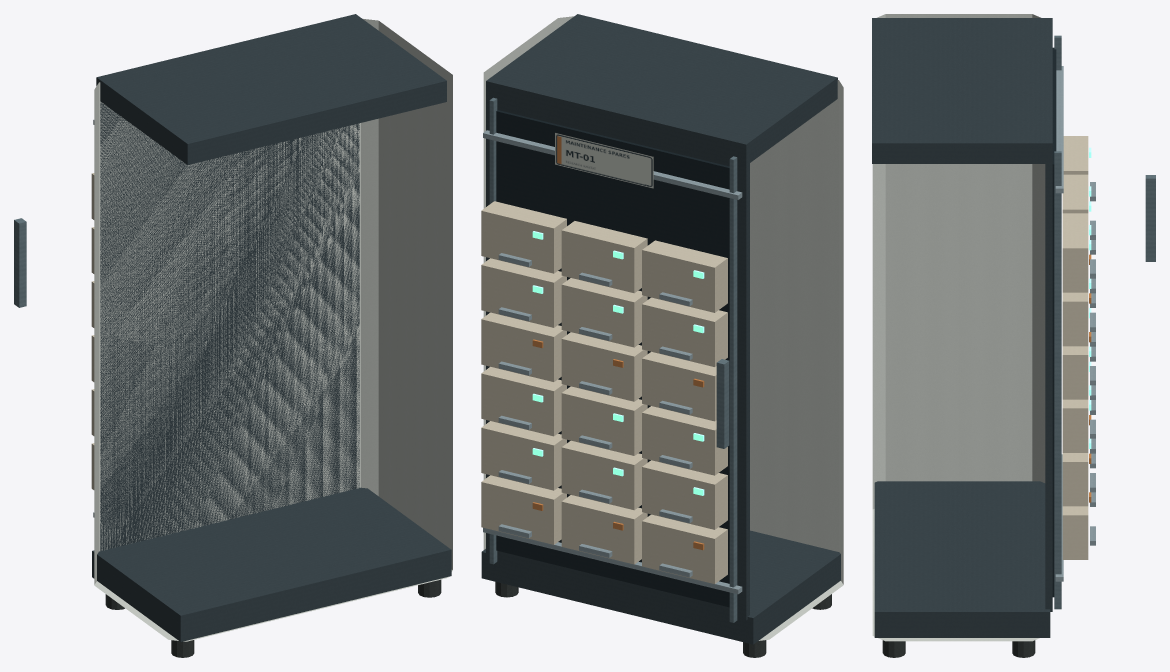
File: spares_cabinet.glb
3 views of the same model, side by side, from view 1: azimuth 30°, elevation 25°; view 2: azimuth 150°, elevation 25°; view 3: azimuth 270°, elevation 25° (orthographic).
Parts seen in each view (by area): view 1: static__shell, front_frame__graphite, static__graphite, Door_Hinge__trim, Parts_Organisers__cream, feet__rubber; view 2: Parts_Organisers__cream, static__graphite, static__shell, interior__carbon, front_frame__graphite, static__trim, Tray_Handles__alloy, static__label_MT-01, static__alloy, Door_Hinge__trim, Parts_Labels__mint, feet__rubber; view 3: static__shell, static__graphite, Parts_Organisers__cream, static__trim, front_frame__graphite, interior__carbon, Tray_Handles__alloy, static__alloy, Door_Hinge__trim, feet__rubber.
Boxes of the visible parts, <box> form: static__shell: <box>94,18,452,641</box>; front_frame__graphite: <box>100,102,359,550</box>; static__graphite: <box>92,14,451,641</box>; Door_Hinge__trim: <box>14,218,26,307</box>; Parts_Organisers__cream: <box>91,173,94,489</box>; feet__rubber: <box>105,579,441,657</box>; Parts_Organisers__cream: <box>481,201,727,583</box>; static__graphite: <box>481,14,840,644</box>; static__shell: <box>483,16,843,640</box>; interior__carbon: <box>496,110,729,607</box>; front_frame__graphite: <box>486,96,749,620</box>; static__trim: <box>489,97,737,622</box>; Tray_Handles__alloy: <box>498,253,692,577</box>; static__label_MT-01: <box>555,133,653,188</box>; static__alloy: <box>483,130,742,594</box>; Door_Hinge__trim: <box>716,359,729,448</box>; Parts_Labels__mint: <box>532,231,704,495</box>; feet__rubber: <box>495,581,831,657</box>; static__shell: <box>872,14,1045,641</box>; static__graphite: <box>872,18,1052,637</box>; Parts_Organisers__cream: <box>1062,136,1088,559</box>; static__trim: <box>1054,35,1061,609</box>; front_frame__graphite: <box>1045,158,1052,611</box>; interior__carbon: <box>1052,47,1056,597</box>; Tray_Handles__alloy: <box>1090,182,1095,545</box>; static__alloy: <box>1055,66,1063,581</box>; Door_Hinge__trim: <box>1145,175,1155,261</box>; feet__rubber: <box>882,640,1035,657</box>.
Size of the model in its own units: 1.2 by 1.97 by 0.9865.
Materials: 10 (10 with a texture image).
